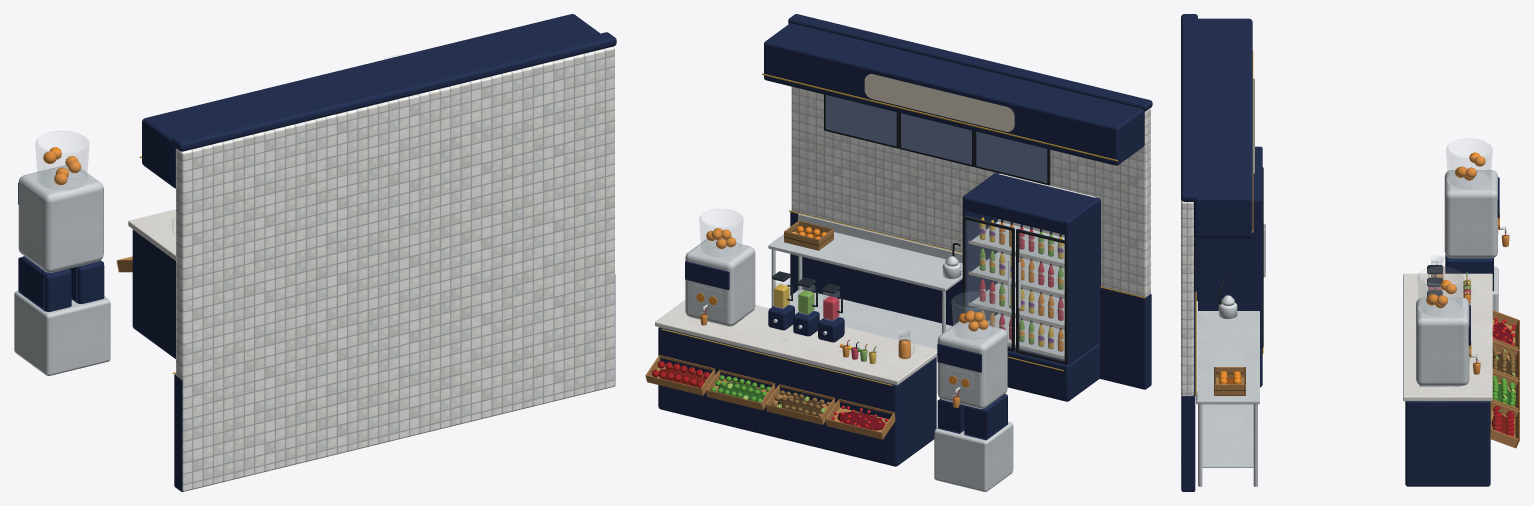
Rendered from sector-sucos_T3.fbx.
3 views of the same model, side by side, from view 1: azimuth 30°, elevation 25°; view 2: azimuth 150°, elevation 25°; view 3: azimuth 270°, elevation 25° (orthographic). The views are drawn at different scales.
Visible parts, largest first — view 1: Body; view 2: Body; view 3: Body.
Part boxes in pixels (x1,y1,x2,y2): Body: (14, 14, 616, 491); Body: (645, 14, 1152, 491); Body: (1181, 14, 1519, 491).
Size of the model in its own units: 4.04 by 3.08 by 3.17.
